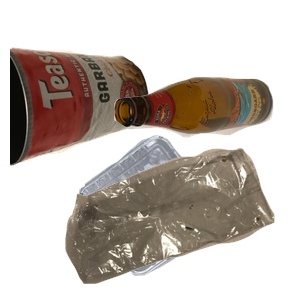glass: (111, 74, 300, 204)
metal: (10, 44, 151, 203)
plastic: (77, 133, 289, 300)
trash: (63, 145, 300, 300)
